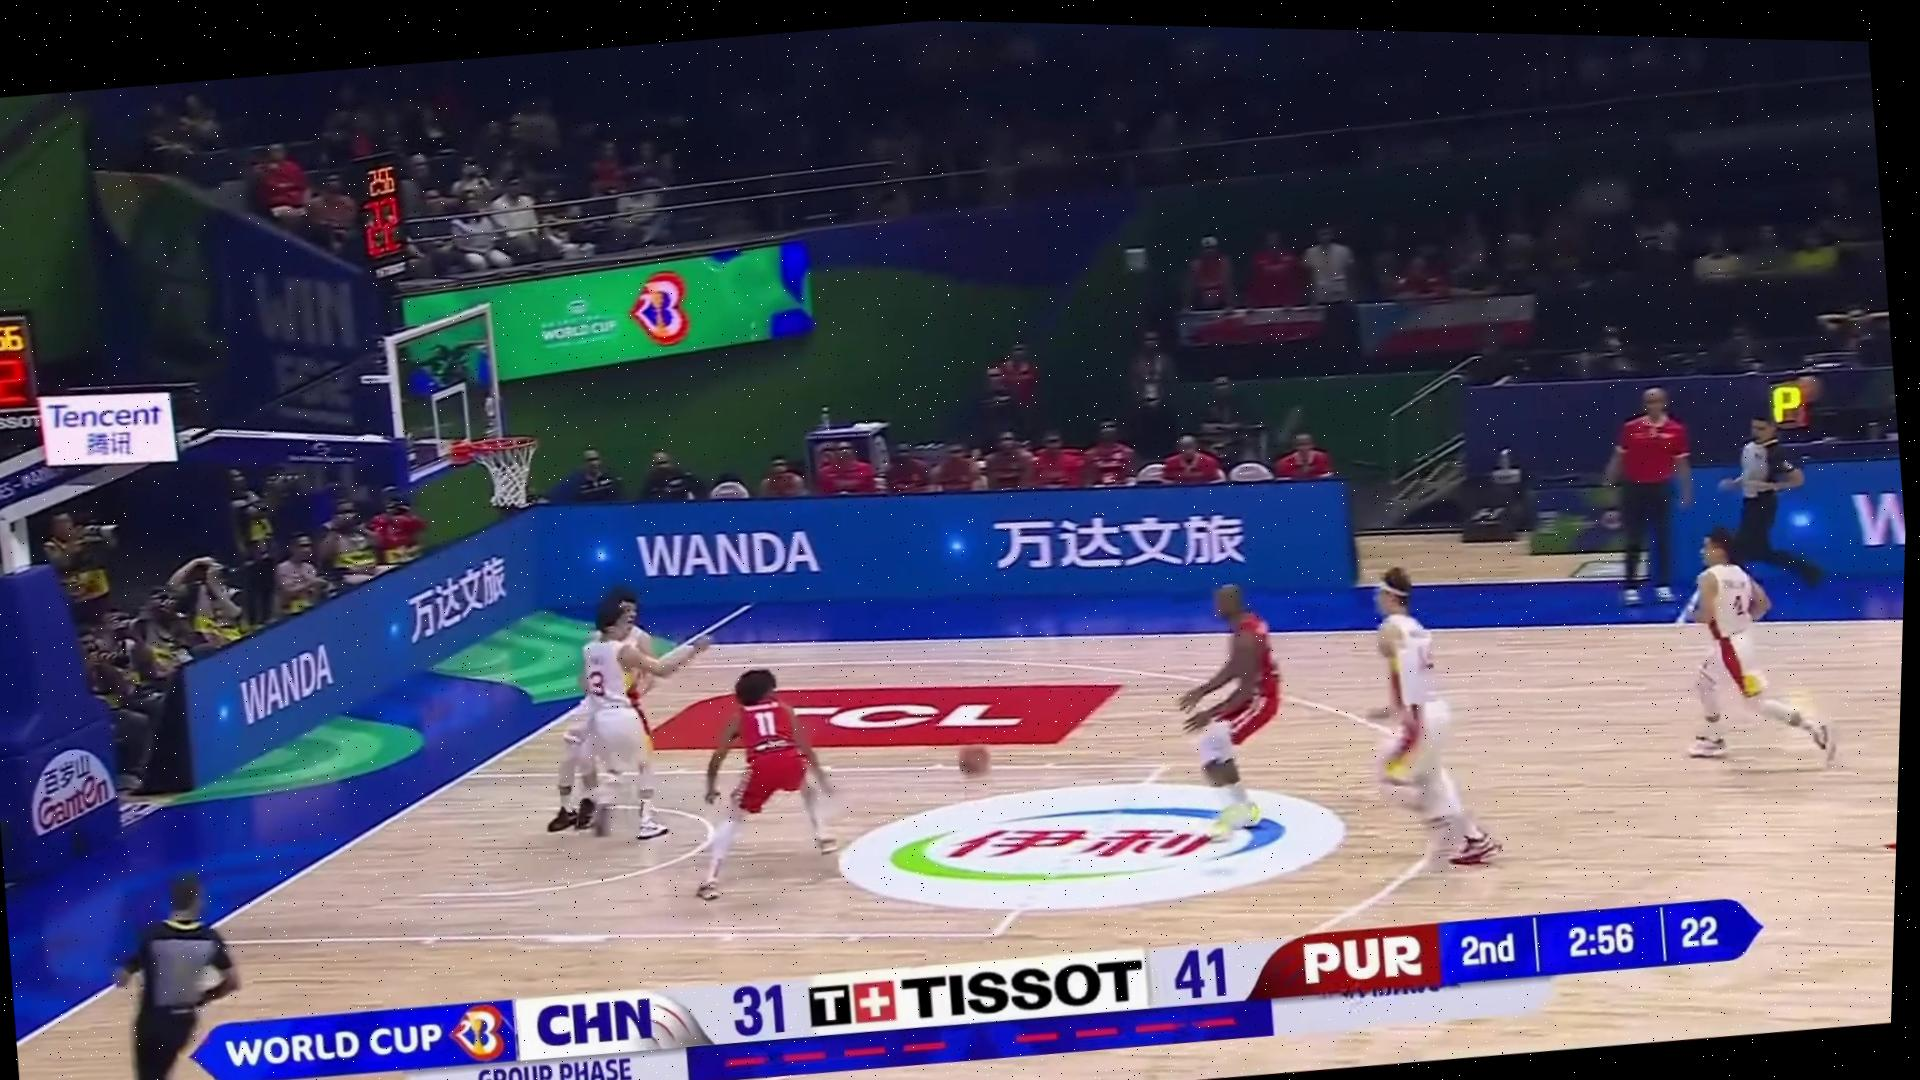no_foul: (551, 584, 847, 903)
